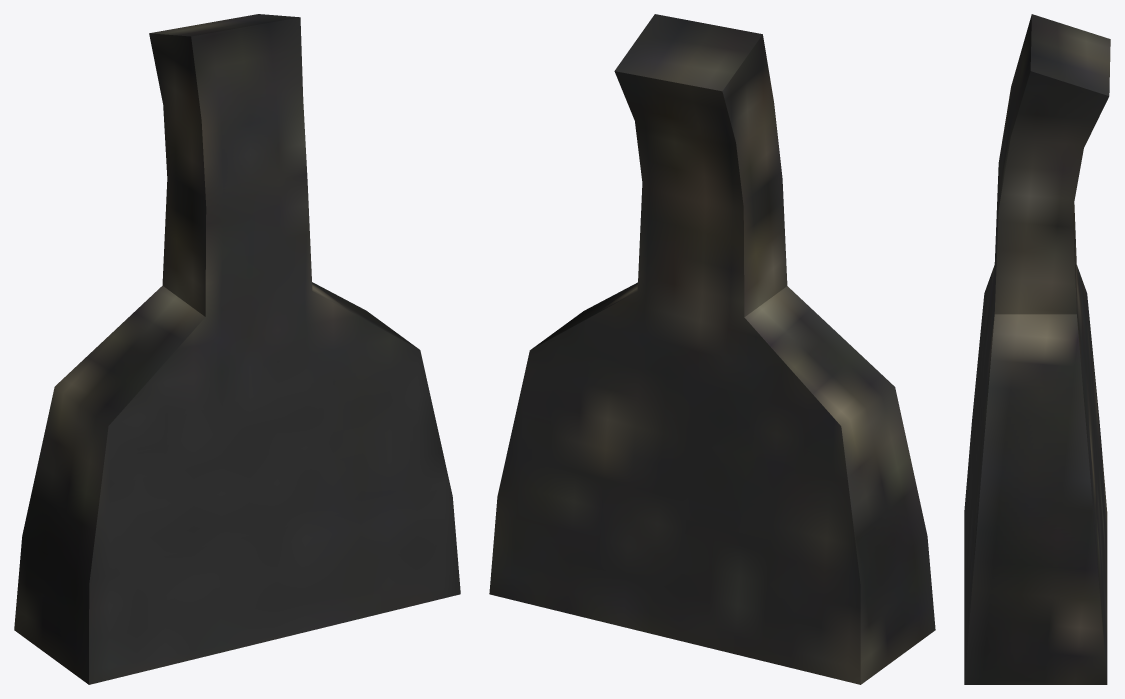
The model's file is Plug_02.FBX.
3 renders of one model, left to right at view 1: azimuth 30°, elevation 25°; view 2: azimuth 150°, elevation 25°; view 3: azimuth 270°, elevation 25°, orthographic. The views are drawn at different scales.
Visible parts, largest first — view 1: Plug_02; view 2: Plug_02; view 3: Plug_02.
Boxes of the visible parts, <box> form: Plug_02: <box>14,14,460,684</box>; Plug_02: <box>489,14,935,684</box>; Plug_02: <box>964,14,1110,684</box>.
Bounding box in the file's own units: 5.12 × 7.76 × 1.83.
